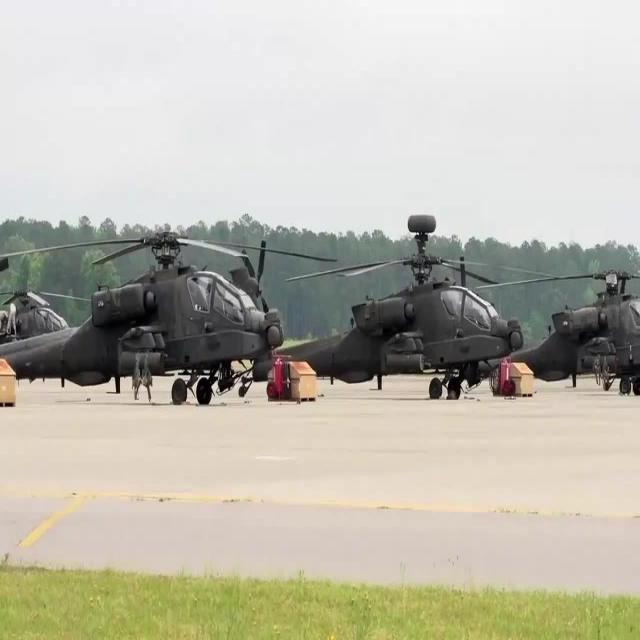MIL_HELO: (0, 218, 330, 420), (268, 208, 551, 411), (474, 256, 640, 400)
